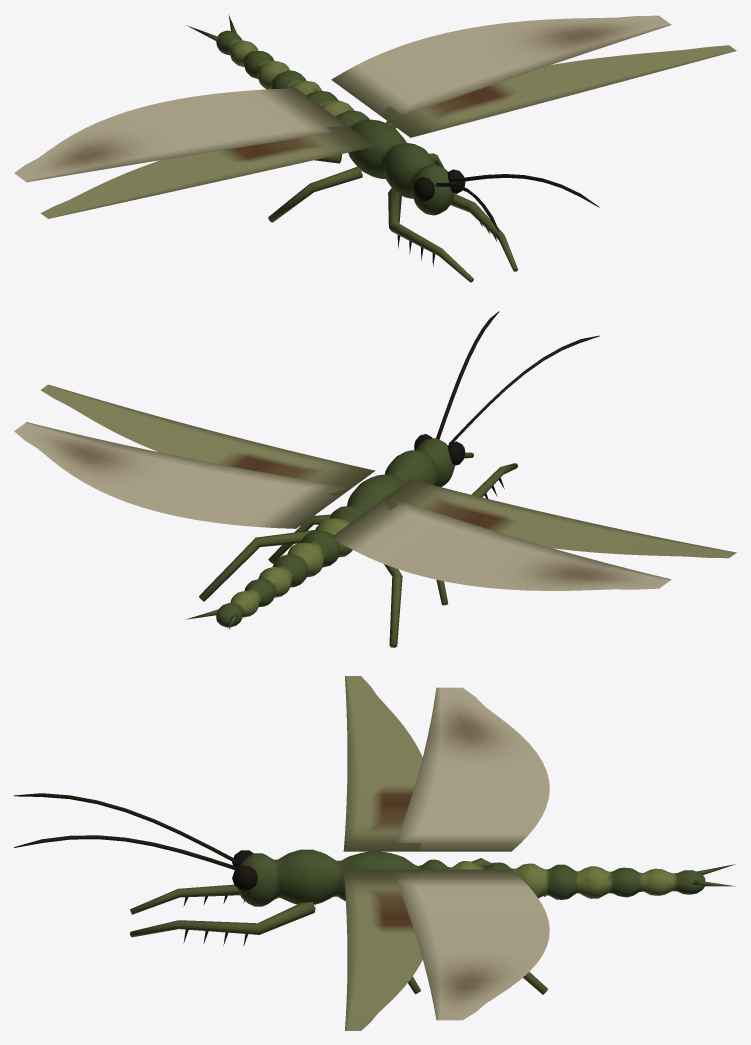
File: Gigatitan.fbx
The picture shows the model from 3 angles, top to bottom: view 1: azimuth 30°, elevation 25°; view 2: azimuth 150°, elevation 25°; view 3: azimuth 270°, elevation 25°; orthographic projection. The views are drawn at different scales.
Visible parts, largest first — view 1: Gigatitan; view 2: Gigatitan; view 3: Gigatitan.
Part boxes in pixels (<box>): Gigatitan: <box>14,15,736,282</box>; Gigatitan: <box>14,311,736,647</box>; Gigatitan: <box>14,676,735,1030</box>.
Size of the model in its own units: 1.58 by 0.2789 by 1.36.
